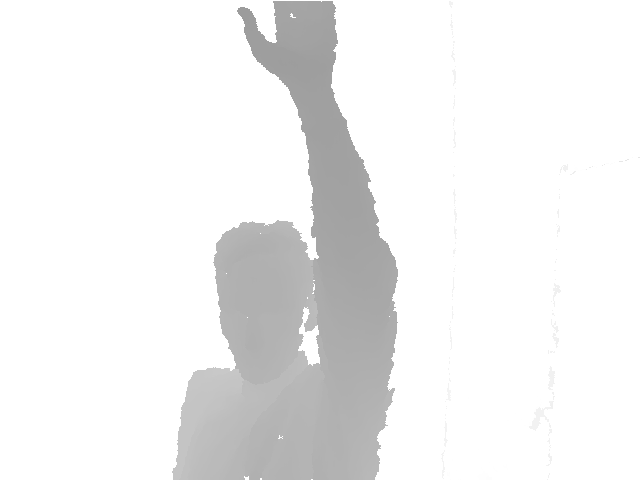hand: (236, 2, 339, 84)
head: (214, 221, 316, 385)
person: (170, 1, 400, 480)
